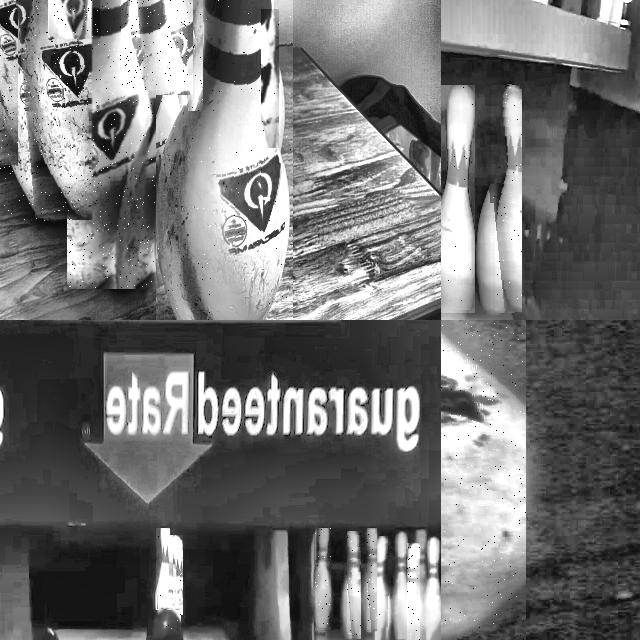bowling-ball: (149, 611, 180, 640)
bowling-pins: (156, 0, 289, 320), (441, 340, 526, 639), (69, 0, 155, 289), (18, 0, 90, 221), (441, 86, 475, 311), (493, 85, 521, 313), (161, 0, 190, 90), (261, 11, 278, 148), (186, 0, 202, 111), (424, 536, 441, 640), (315, 528, 331, 629), (394, 531, 408, 640), (347, 531, 361, 636), (375, 536, 388, 640), (407, 544, 420, 640), (156, 529, 169, 610), (367, 529, 377, 631), (170, 535, 182, 615)
